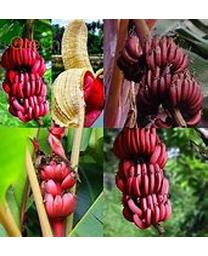banana: (119, 31, 204, 123), (114, 129, 171, 232), (52, 20, 106, 126), (0, 36, 49, 122)
